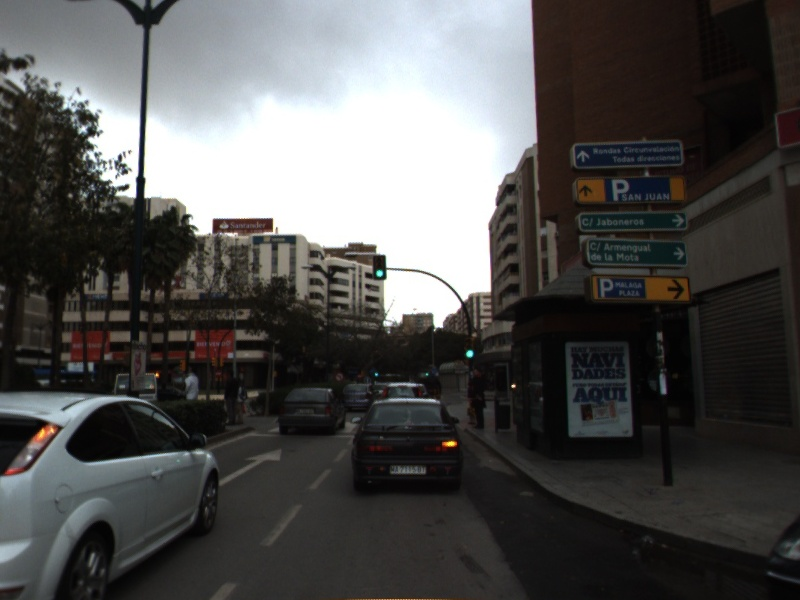STRAIGHT: (217, 446, 283, 486)
